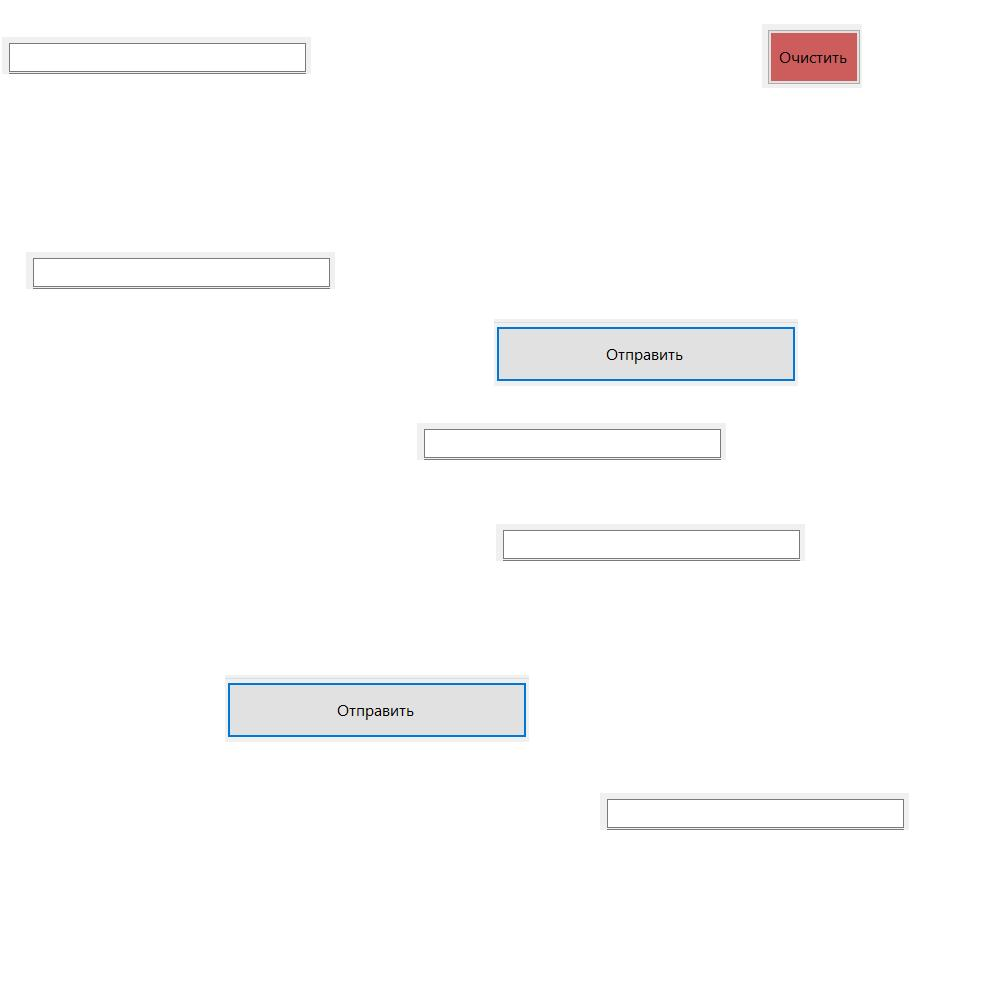Button: (494, 319, 798, 386), (225, 675, 529, 742), (762, 24, 862, 88)
EditText-: (417, 423, 726, 460), (496, 524, 805, 561), (26, 252, 335, 289), (600, 793, 909, 830), (2, 37, 311, 74)
